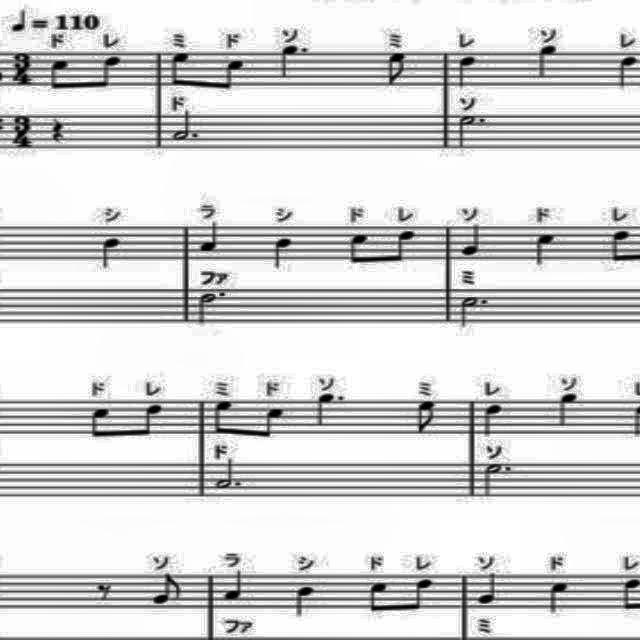Eighth-note: (216, 56, 252, 102), (134, 397, 172, 439), (602, 225, 636, 267), (166, 47, 198, 91), (364, 576, 396, 620), (387, 225, 417, 269), (150, 570, 186, 606), (80, 406, 116, 442), (254, 401, 286, 441), (346, 226, 374, 268), (210, 395, 238, 437), (410, 572, 434, 620), (95, 53, 125, 91), (412, 399, 440, 437), (386, 48, 410, 88), (48, 55, 72, 93)
Eighth-rest: (95, 580, 117, 604)
Half-dot: (168, 109, 208, 145), (458, 292, 494, 332), (480, 460, 514, 502), (210, 454, 247, 492), (195, 288, 229, 326), (456, 113, 488, 151)
Quarter-dot: (277, 44, 313, 82), (314, 391, 350, 429)
Quarter-note: (528, 230, 560, 270), (542, 579, 574, 619), (96, 234, 128, 272), (268, 234, 298, 274), (554, 389, 582, 431), (454, 52, 482, 92), (536, 42, 564, 82), (474, 569, 502, 609), (197, 221, 226, 259), (458, 222, 486, 260), (294, 581, 322, 619), (482, 399, 506, 441), (616, 52, 640, 92), (223, 569, 249, 605), (8, 7, 30, 36)
Quarter-rest: (46, 114, 68, 144)
